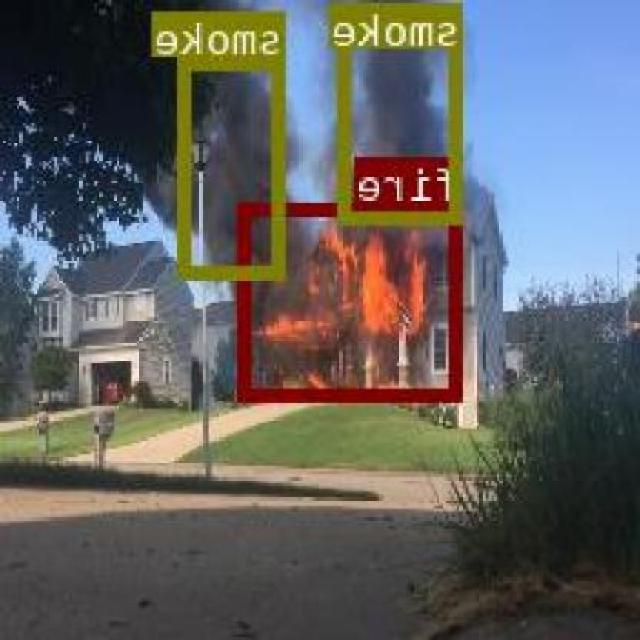Fire: (240, 200, 465, 400)
Smoke: (342, 2, 466, 222), (180, 56, 288, 276)
